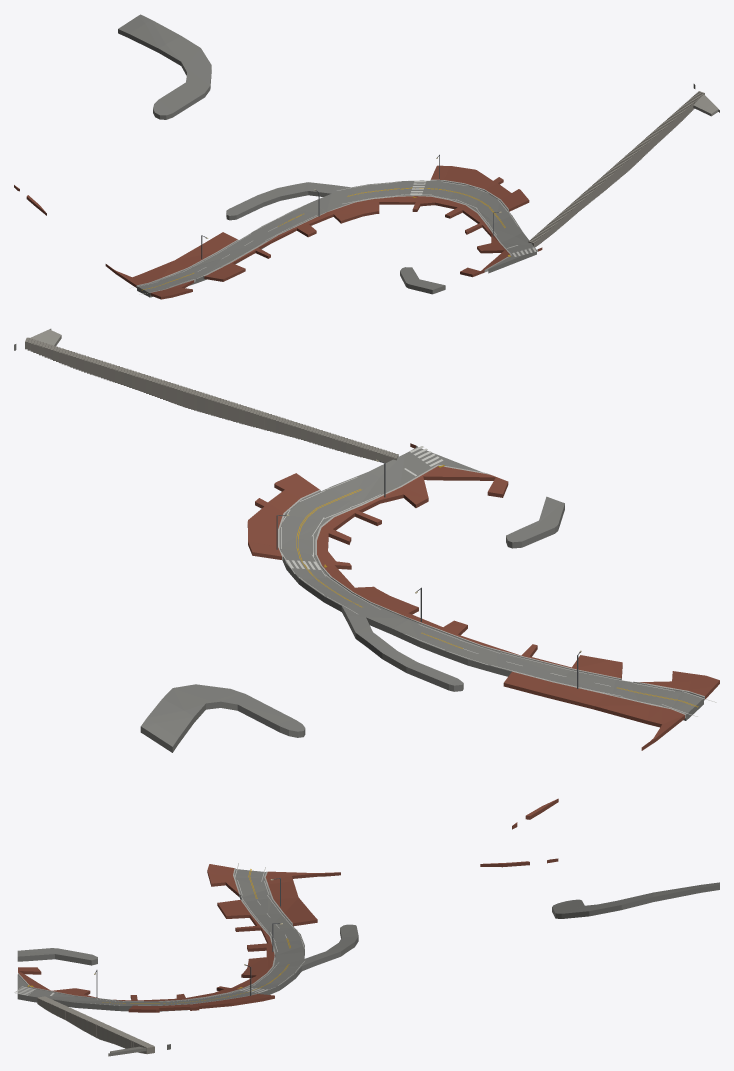
The picture shows the model from 3 angles, top to bottom: view 1: azimuth 30°, elevation 25°; view 2: azimuth 150°, elevation 25°; view 3: azimuth 270°, elevation 25°; orthographic projection. The views are drawn at different scales.
Bounding box in the file's own units: 150 × 30.2 × 147.
